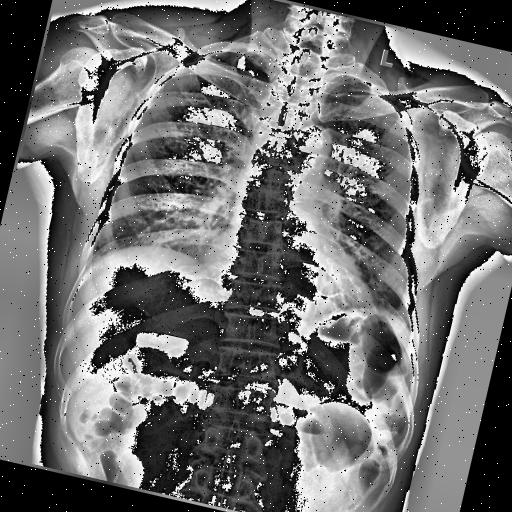0- Aortic enlargement: (284, 116, 338, 168), (288, 120, 336, 174), (290, 122, 336, 178)
3- Cardiomegaly: (190, 226, 388, 327), (196, 238, 382, 328)
